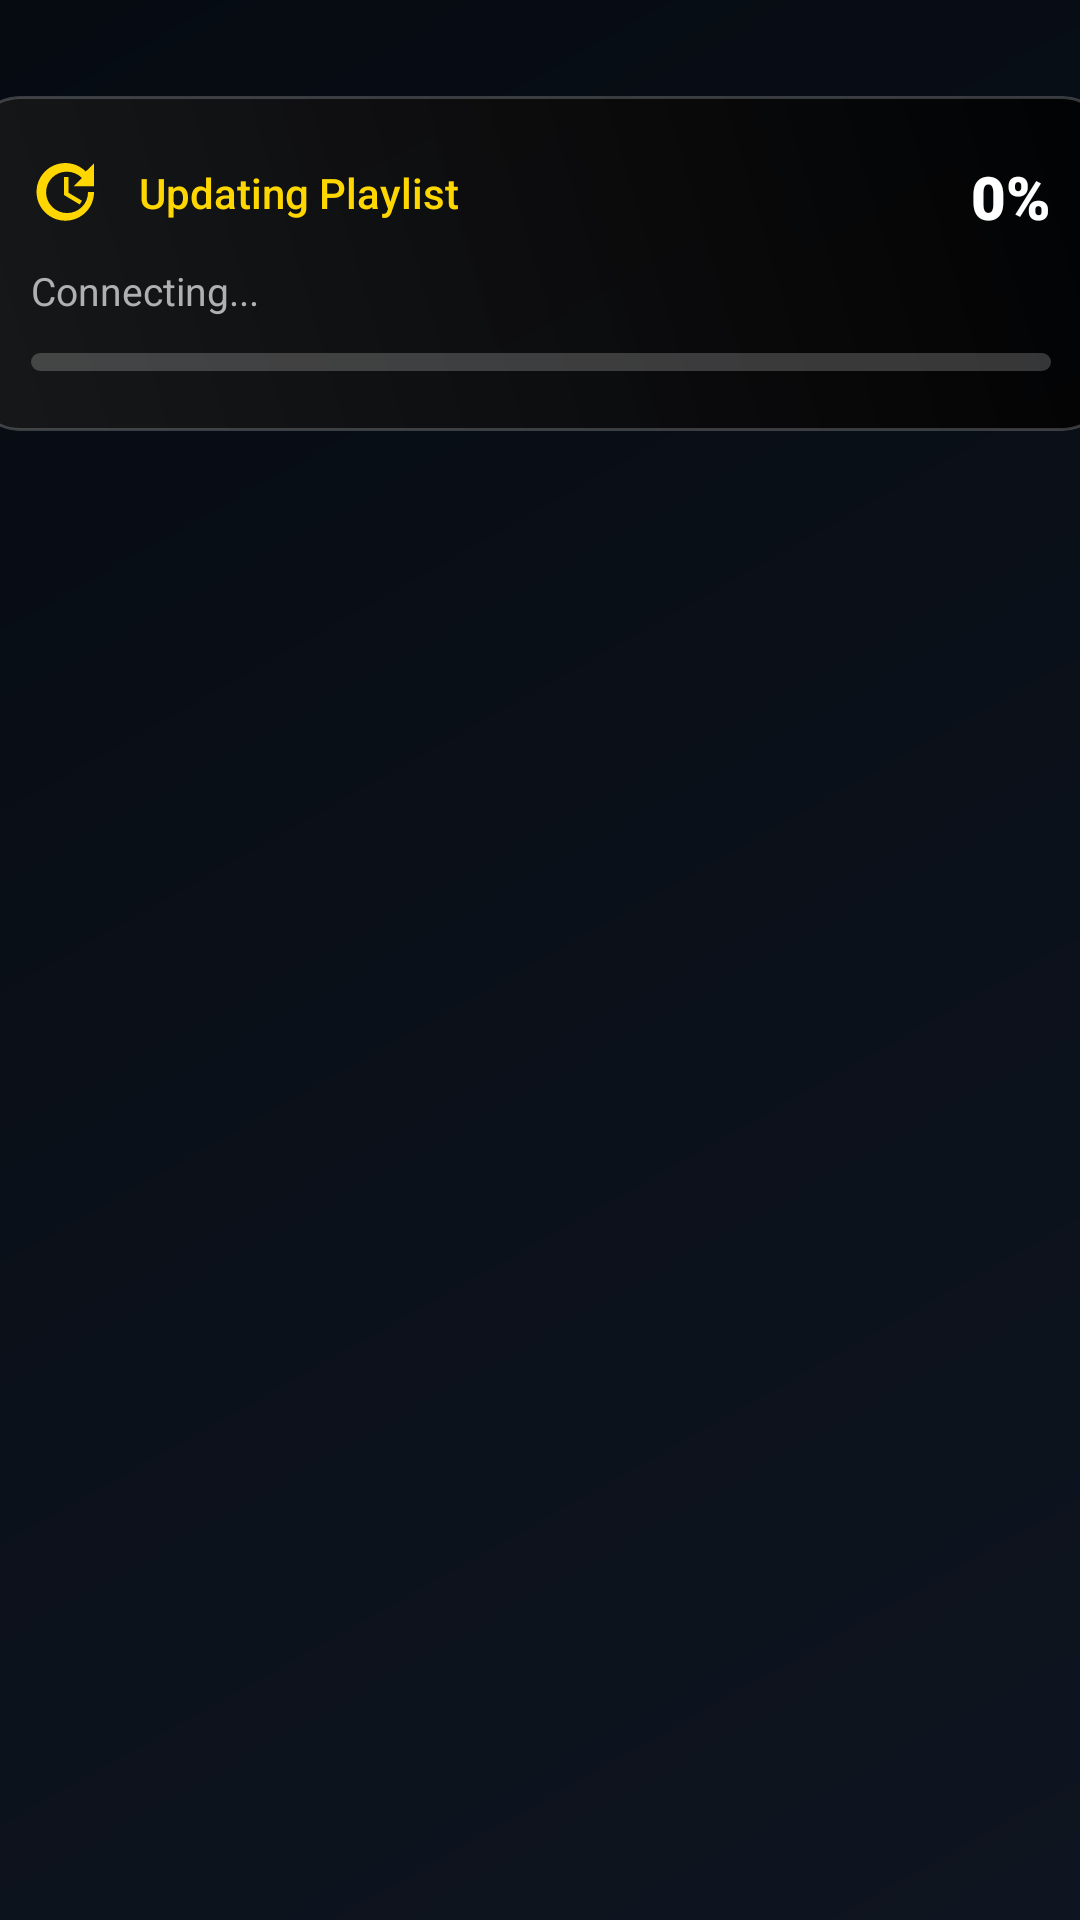

Where to tap for icons on this 1080 x 1920 app screen, as (x=x, y=y):
update: (x=65, y=192)
